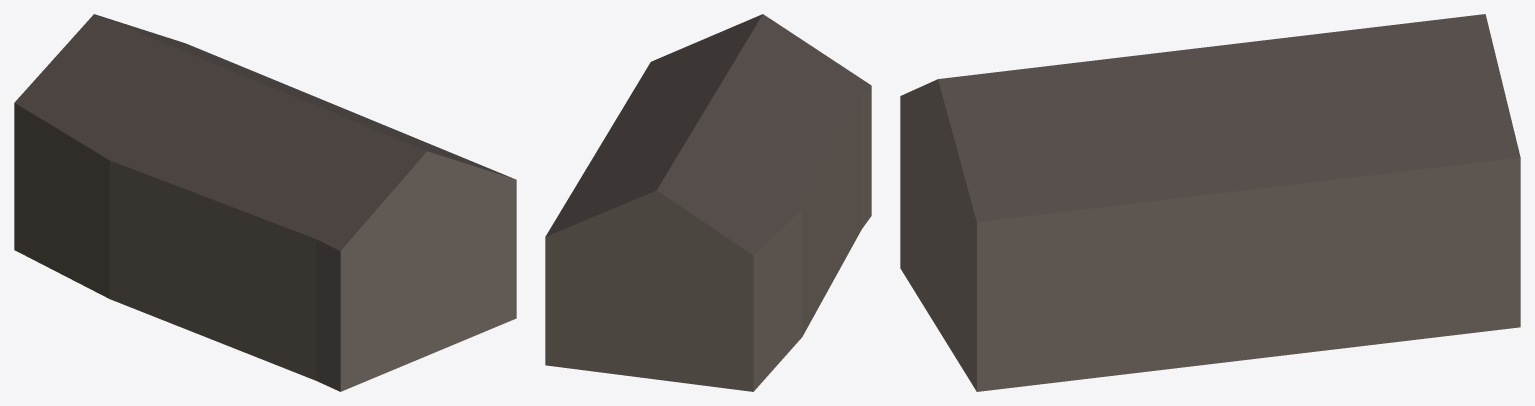
3 renders of one model, left to right at view 1: azimuth 30°, elevation 25°; view 2: azimuth 150°, elevation 25°; view 3: azimuth 270°, elevation 25°, orthographic. The views are drawn at different scales.
Visible parts, largest first — view 1: HP-w414733199; view 2: HP-w414733199; view 3: HP-w414733199.
Part boxes in pixels (left/top/right/bottom): HP-w414733199: left=14, top=14, right=516, bottom=391; HP-w414733199: left=545, top=14, right=871, bottom=391; HP-w414733199: left=900, top=14, right=1520, bottom=391.
Size of the model in its own units: 20.81 by 13.26 by 29.82.
